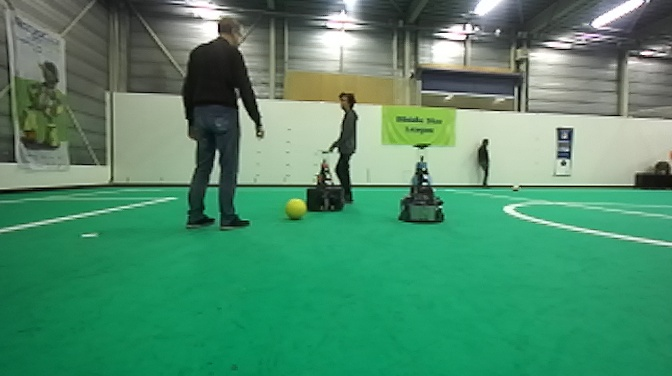ball: (284, 198, 306, 221), (509, 181, 523, 194)
human: (181, 14, 266, 230), (325, 91, 359, 205), (473, 133, 495, 189)
robot: (396, 141, 447, 225), (306, 148, 347, 212)
